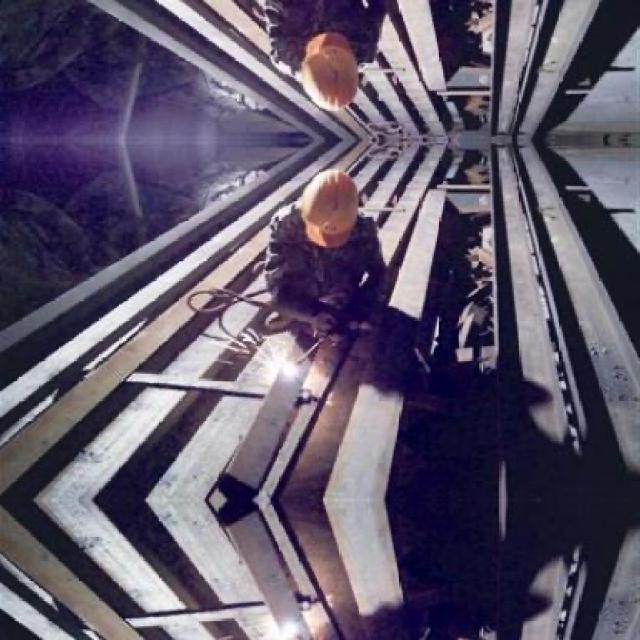con casco: (212, 162, 422, 304), (275, 0, 403, 114)
